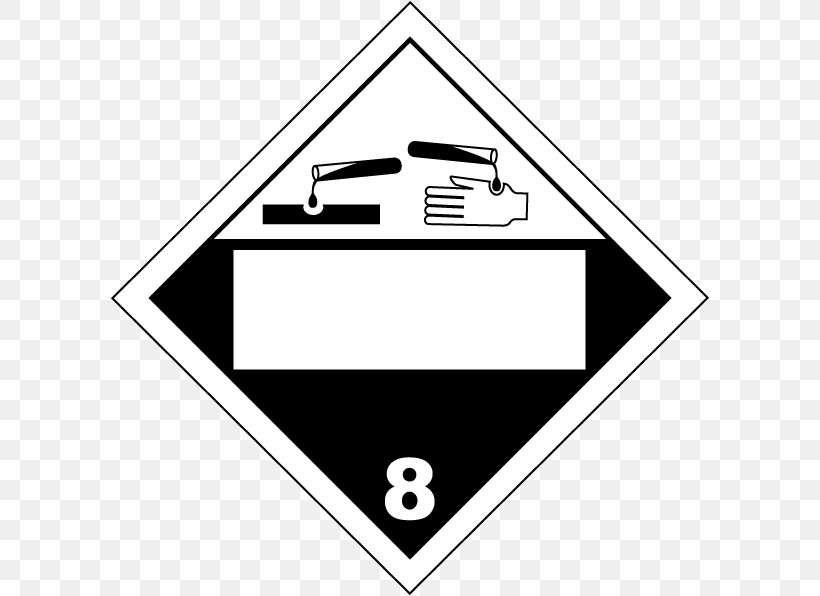Corrosive: (107, 1, 708, 596)
